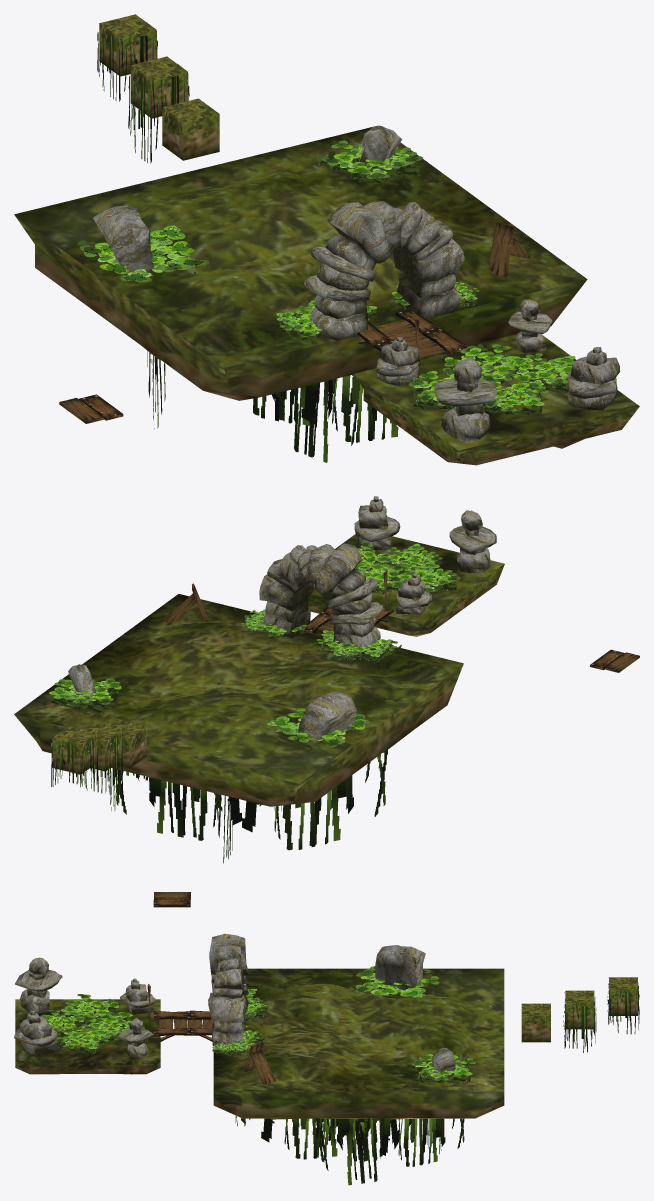
The model's file is level_test_2.glb.
3 renders of one model, top to bottom at view 1: azimuth 30°, elevation 25°; view 2: azimuth 150°, elevation 25°; view 3: azimuth 270°, elevation 25°, orthographic. The views are drawn at different scales.
Visible parts, largest first — view 1: garden_floor_2-col, gate1, garden_floor_3-col, standingstones1, gardencube-col, clover_side.017, stone1-col, standingstones2, gardencube-col.003, gardencube-col.002, clover_side.006, vine.006 (+14 smaller); view 2: garden_floor_2-col, gate1, garden_floor_3-col, vine.011, vine.012, stone1-col, standingstones1, gardencube-col.003, standingstones2, clover_side.006, clover_side.017, clover_side.010 (+8 smaller); view 3: garden_floor_2-col, garden_floor_3-col, gate1, vine.013, stone1-col, standingstones1, vine.010, standingstones2, vine.009, gardencube-col, vine.014, clover_side.017 (+13 smaller).
Part boxes in pixels (x1,y1,x2,y2): garden_floor_2-col: (14,125,587,400); gate1: (304,201,464,340); garden_floor_3-col: (353,334,639,465); standingstones1: (434,357,496,442); gardencube-col: (162,98,219,160); clover_side.017: (77,225,209,283); stone1-col: (93,205,154,273); standingstones2: (567,347,619,410); gardencube-col.003: (99,14,156,76); gardencube-col.002: (130,56,187,118); clover_side.006: (316,140,422,185); vine.006: (276,375,398,442); garden_floor_2-col: (14,594,463,806); gate1: (259,543,382,653); garden_floor_3-col: (308,534,504,636); vine.011: (214,749,387,850); vine.012: (116,769,261,840); stone1-col: (298,691,357,742); standingstones1: (449,510,496,573); gardencube-col.003: (52,726,97,774); standingstones2: (354,496,400,550); clover_side.006: (49,673,121,714); clover_side.017: (267,700,369,753); clover_side.010: (387,561,460,597); garden_floor_2-col: (213,968,504,1120); garden_floor_3-col: (15,999,160,1074); gate1: (208,933,249,1047); vine.013: (360,1118,464,1166); stone1-col: (375,945,425,990); standingstones1: (15,957,62,1012); vine.010: (241,1118,371,1159); standingstones2: (14,1010,58,1056); vine.009: (316,1118,411,1166); gardencube-col: (521,1003,550,1042); vine.014: (320,1119,399,1185); clover_side.017: (353,966,439,997).
Size of the model in its own units: 15.01 by 8.77 by 21.54.
Materials: 13 (13 with a texture image).
